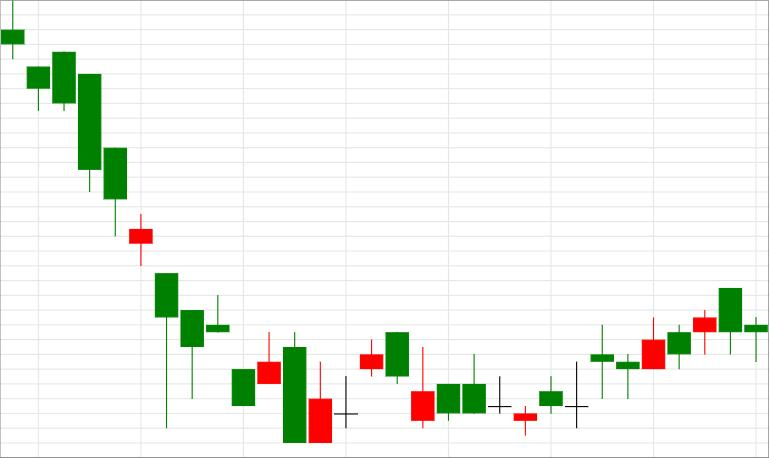bearish_engulfing_fall: (642, 289, 743, 369)
hammer_rise: (0, 0, 204, 429), (1, 1, 178, 429)
